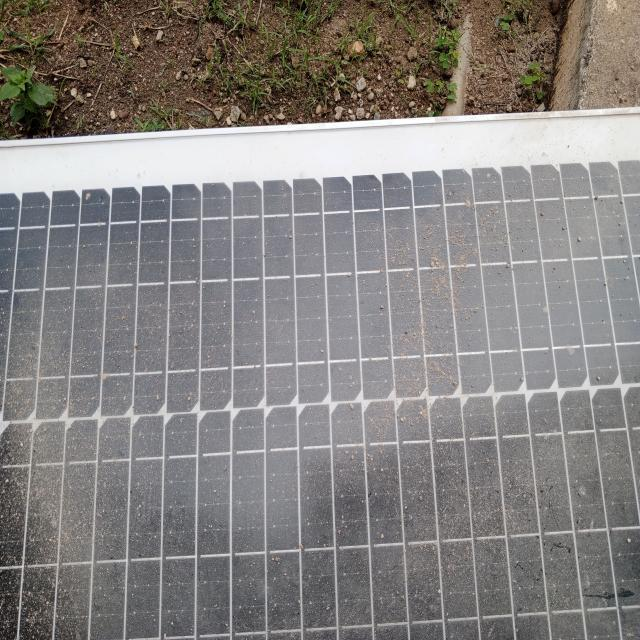Anomaly Solar Panel: (3, 152, 637, 637)
Surface Contaminant: (4, 159, 639, 637)
